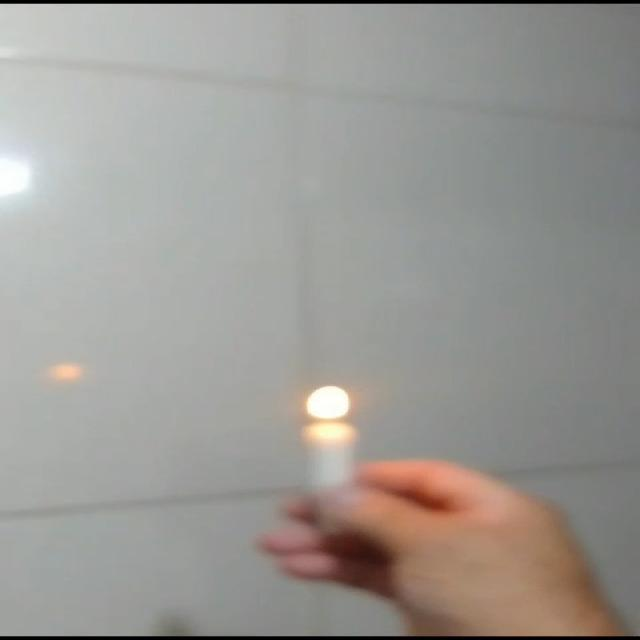fogo-ypXI: (305, 385, 351, 420)
